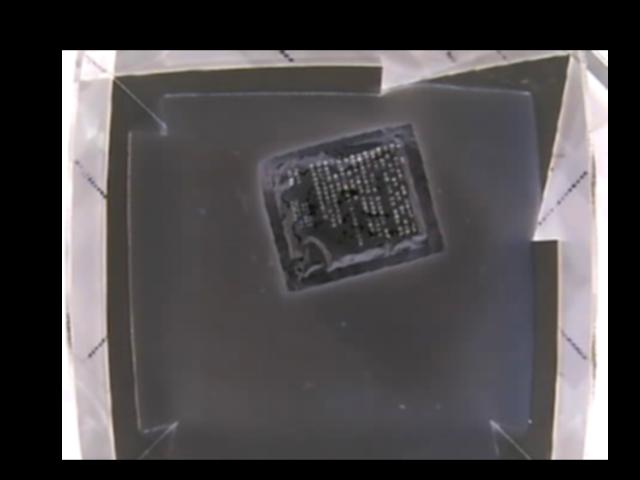Medicine: (260, 124, 447, 290)
